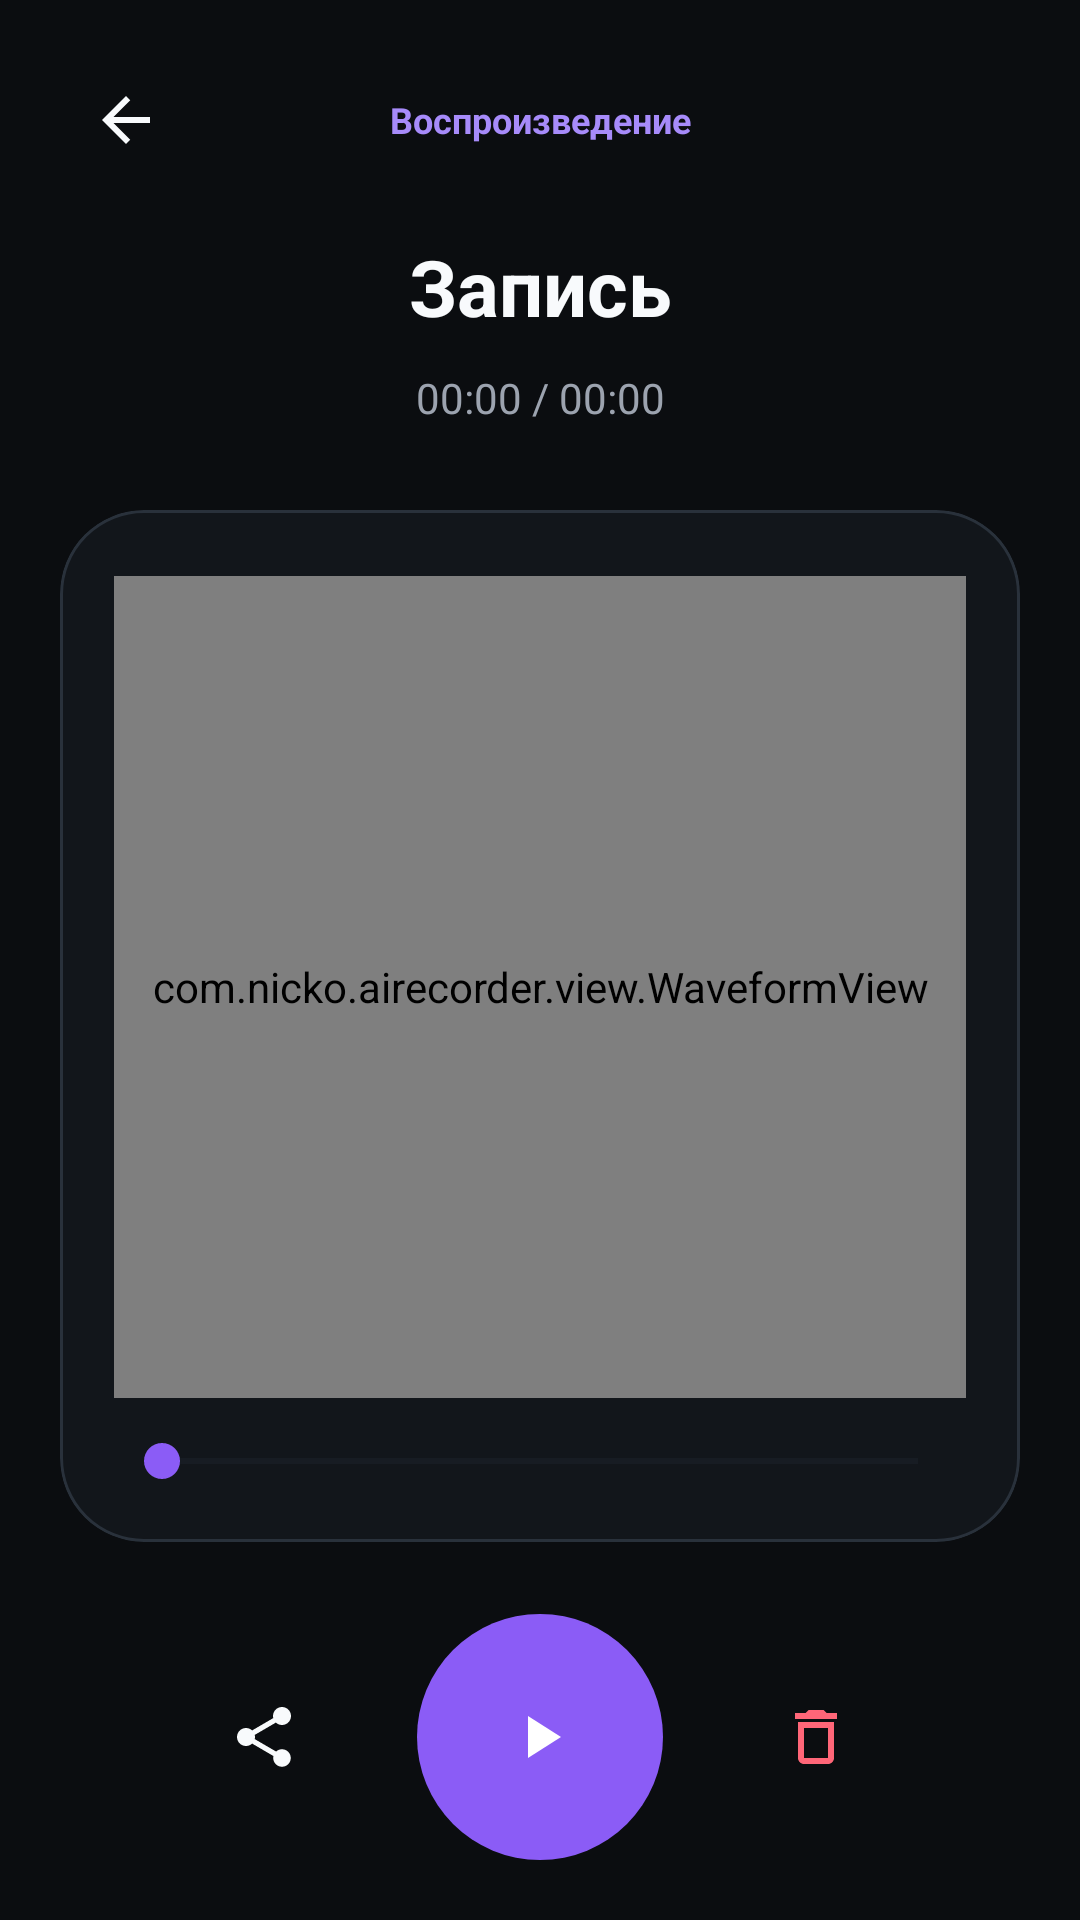

Point at icon controls on the screen. Image size 1080w x 1920h, points as point (x, y).
Воспроизвести: point (540, 1737)
Назад: point (126, 120)
Поделиться: point (264, 1737)
Удалить: point (816, 1737)
